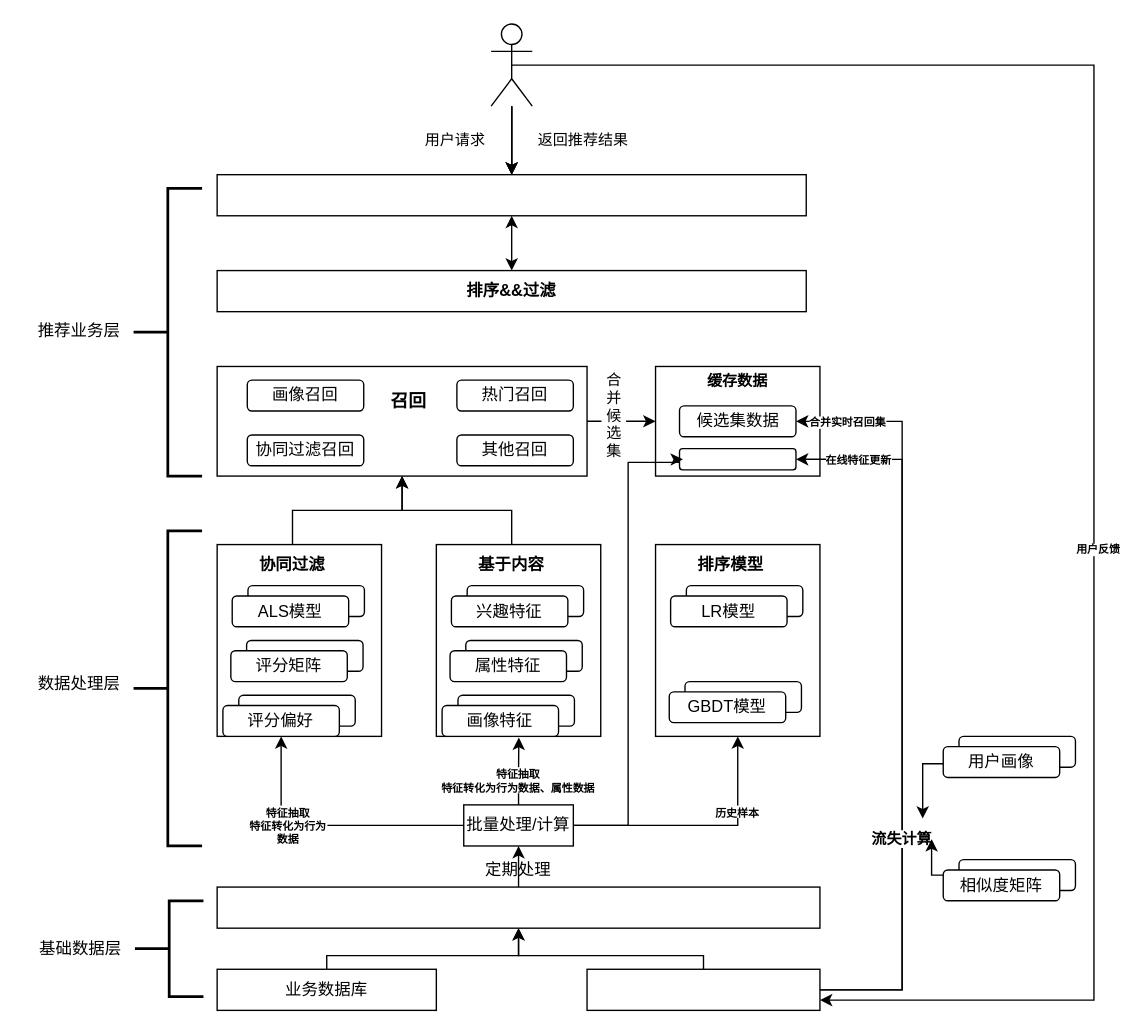
This 1143x1036 diagram has some shape labels left out. The shapes that lost their labels are listed below. From the top down, each one's centre as x and y in pixels, then its label:
At (511,194): "推荐中心".
At (737,458): "特征数据".
At (518,907): "分布式文件系统".
At (703,989): "日志系统".
